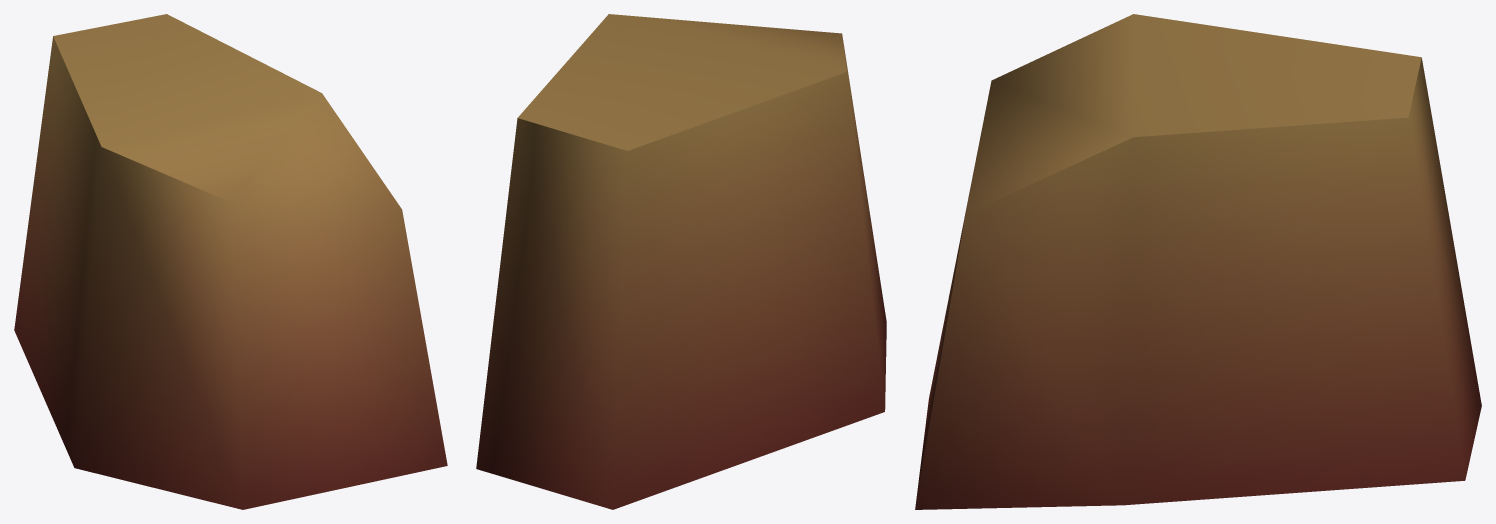
File: Mountain_small.006.fbx
The picture shows the model from 3 angles, left to right: view 1: azimuth 30°, elevation 25°; view 2: azimuth 150°, elevation 25°; view 3: azimuth 270°, elevation 25°; orthographic projection. The views are drawn at different scales.
Parts seen in each view (by area): view 1: Mountain_small.006; view 2: Mountain_small.006; view 3: Mountain_small.006.
Boxes of the visible parts, left/top/right/bottom form: Mountain_small.006: left=14, top=14, right=447, bottom=509; Mountain_small.006: left=476, top=14, right=886, bottom=509; Mountain_small.006: left=915, top=14, right=1481, bottom=509.
Size of the model in its own units: 10.18 by 10.69 by 15.45.
